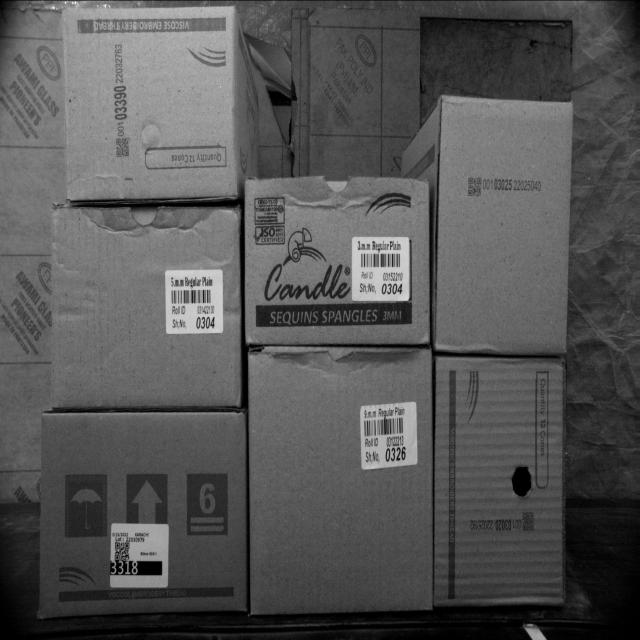cardboxes: (249, 351, 434, 612), (41, 412, 246, 618), (51, 204, 245, 409), (62, 0, 241, 200), (438, 96, 574, 352), (434, 358, 568, 609), (246, 175, 432, 346)
